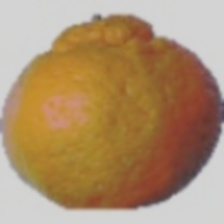tangerine: (35, 2, 183, 184)
